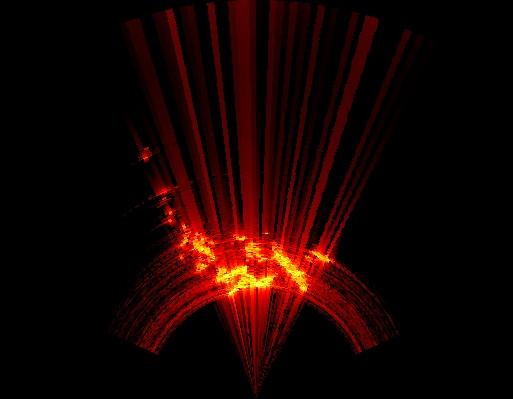shipwreck: (182, 225, 306, 295), (303, 250, 333, 262)
